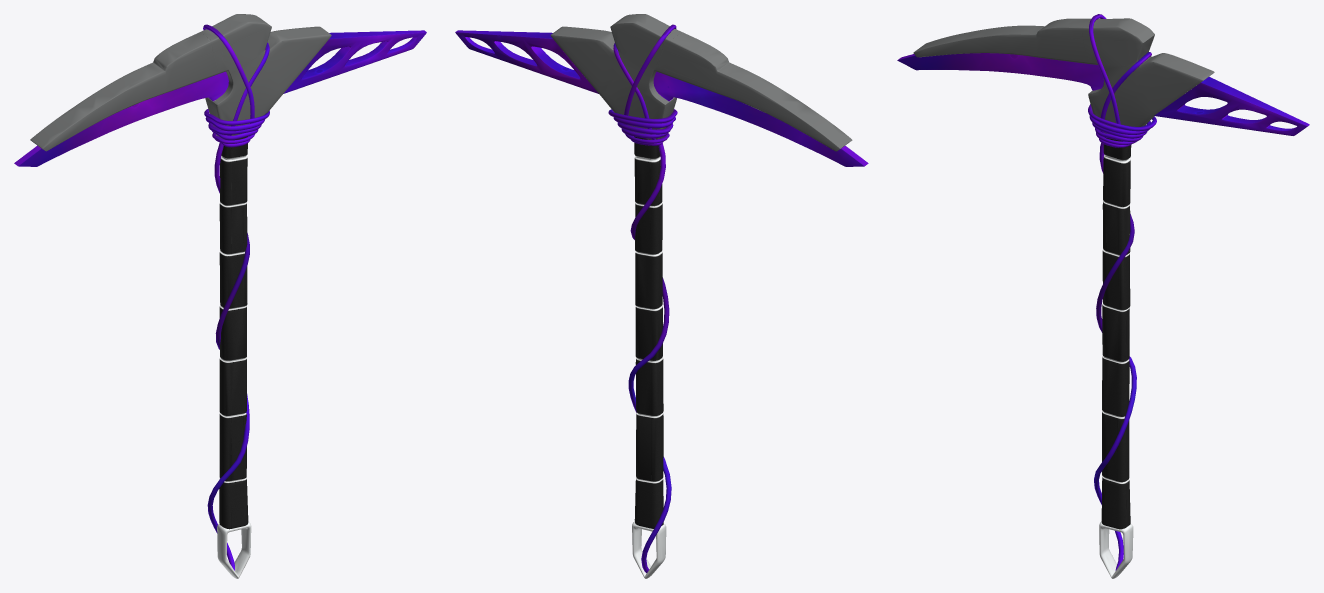
File: PickSkin.glb
3 views of the same model, side by side, from view 1: azimuth 30°, elevation 25°; view 2: azimuth 150°, elevation 25°; view 3: azimuth 330°, elevation 25° (orthographic).
Parts seen in each view (by area): view 1: Object_6, Object_8; view 2: Object_6, Object_8; view 3: Object_6, Object_8.
Boxes of the visible parts, x1,y1,x2,y2 form: Object_6: (30, 14, 331, 578); Object_8: (14, 24, 426, 570); Object_6: (550, 14, 852, 578); Object_8: (455, 24, 868, 573); Object_6: (913, 18, 1214, 578); Object_8: (897, 14, 1309, 570).
Bounding box in the file's own units: 53.93 × 70 × 5.2.
Materials: 2 (2 with a texture image).
